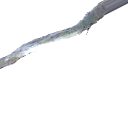crackTip: (1, 1, 128, 68)
